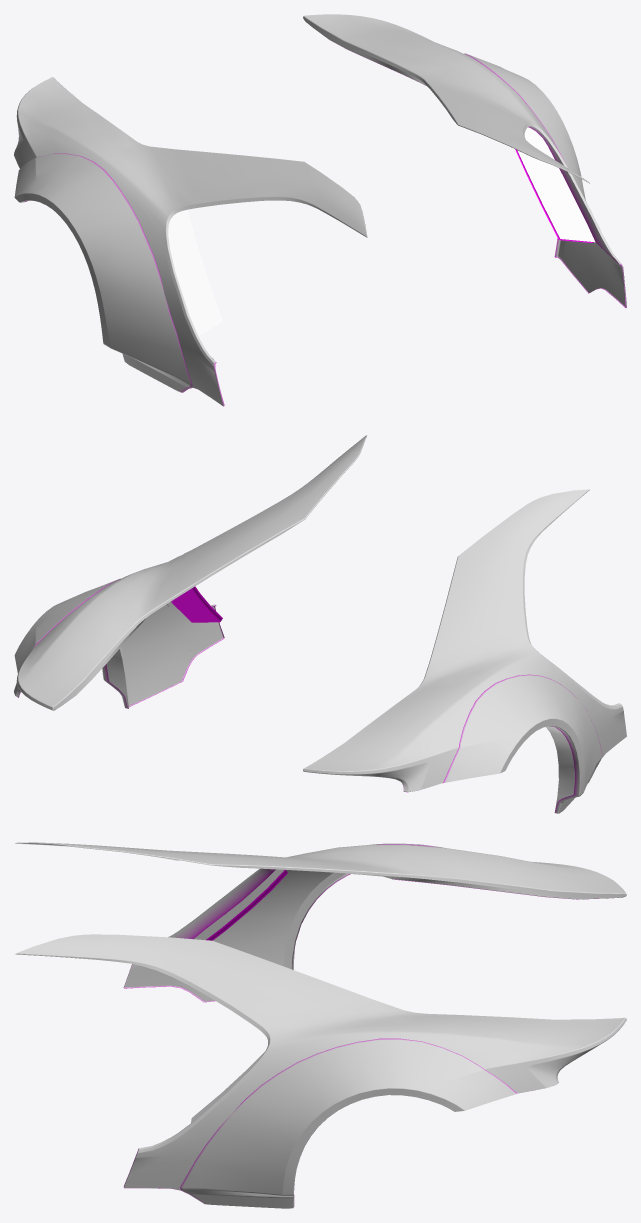
File: Car_Ford_GT_2017_FendersR_SetE.fbx
3 renders of one model, top to bottom at view 1: azimuth 30°, elevation 25°; view 2: azimuth 150°, elevation 25°; view 3: azimuth 270°, elevation 25°, orthographic.
Visible parts, largest first — view 1: FendersR 6; view 2: FendersR 6; view 3: FendersR 6.
Part boxes in pixels (x1,y1,x2,y2): FendersR 6: (14,14,626,406); FendersR 6: (14,435,626,813); FendersR 6: (15,842,626,1208).
Bounding box in the file's own units: 2.17 × 0.8915 × 2.33.
